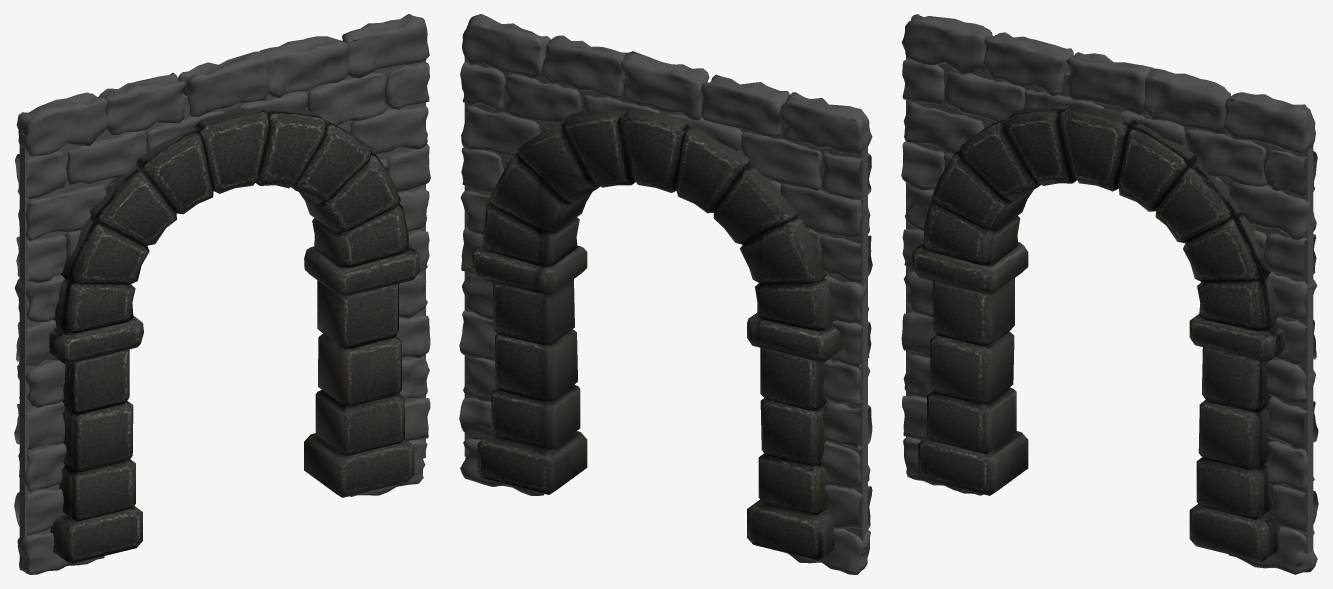
Rendered from Arch_02.fbx.
The picture shows the model from 3 angles, left to right: view 1: azimuth 30°, elevation 25°; view 2: azimuth 150°, elevation 25°; view 3: azimuth 330°, elevation 25°; orthographic projection.
Parts seen in each view (by area): view 1: Archway; view 2: Archway; view 3: Archway.
Boxes of the visible parts, x1=… form: Archway: x1=14, y1=14, x2=430, y2=574; Archway: x1=459, y1=14, x2=872, y2=574; Archway: x1=901, y1=14, x2=1318, y2=574.
Size of the model in its own units: 304 by 335 by 49.25.
